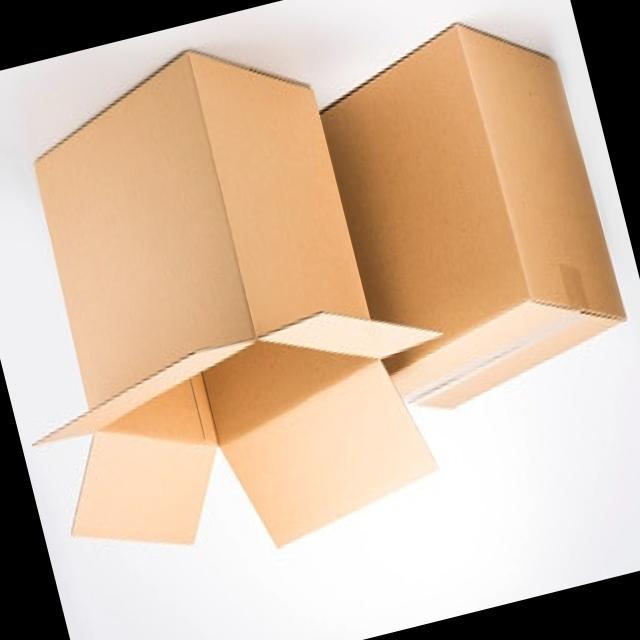Kardus: (0, 0, 640, 606), (305, 0, 640, 427)
